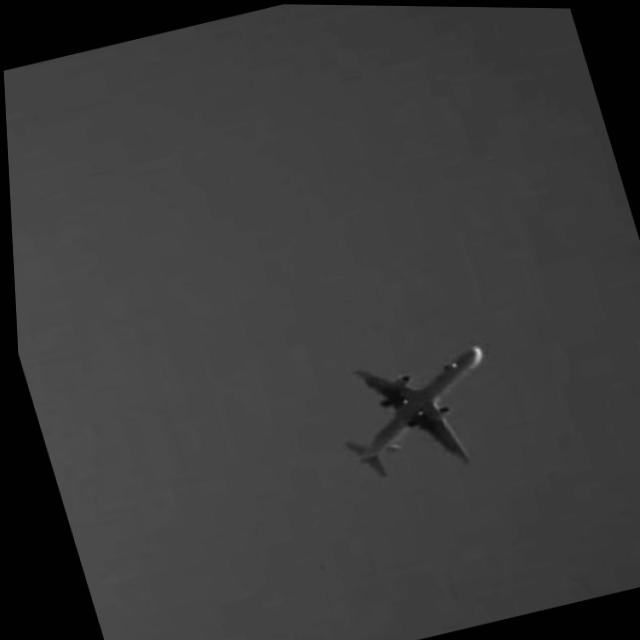aeroplane: (315, 334, 506, 491)
